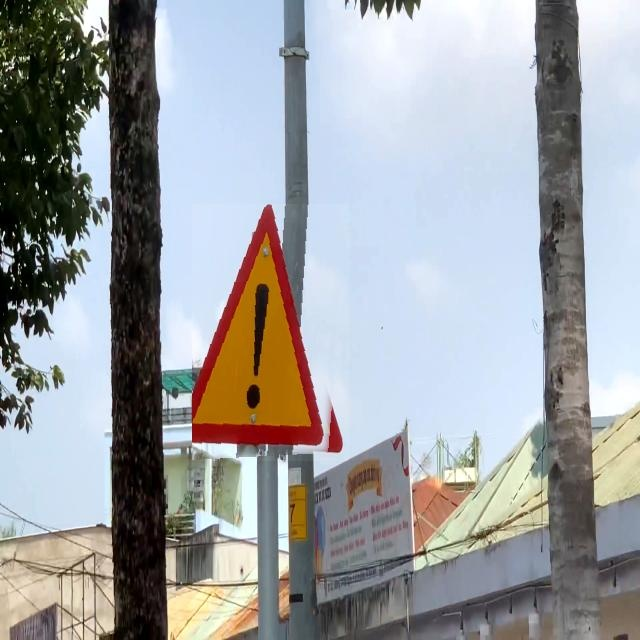bien_nguy_hiem: (192, 204, 349, 461)
